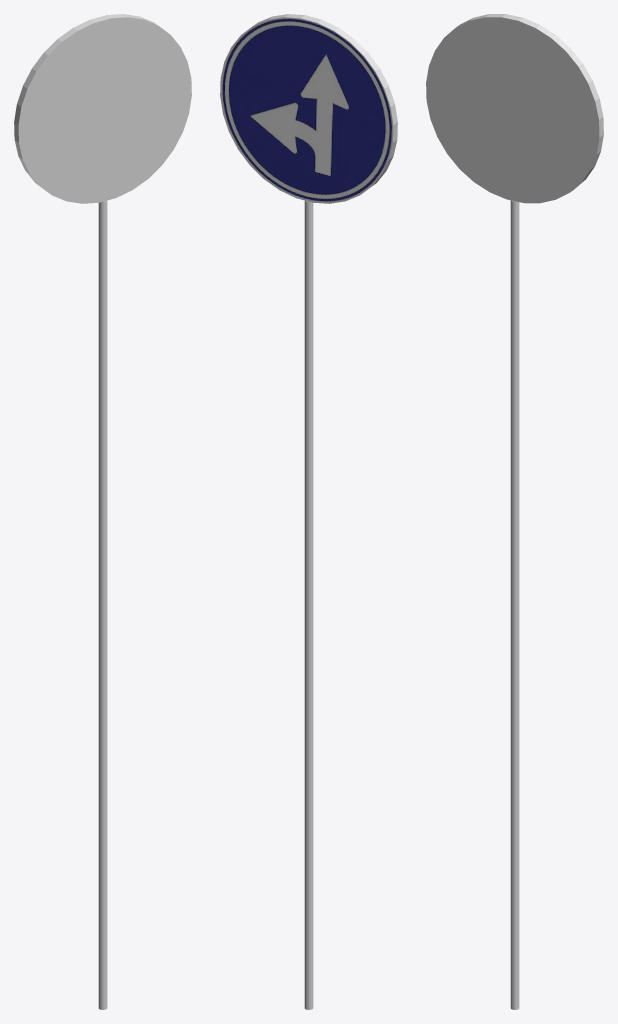
File: ilsol.dae
3 views of the same model, side by side, from view 1: azimuth 30°, elevation 25°; view 2: azimuth 150°, elevation 25°; view 3: azimuth 330°, elevation 25° (orthographic).
Parts seen in each view (by area): view 1: Cylinder_001, Cylinder; view 2: Cylinder_001, Cylinder; view 3: Cylinder_001, Cylinder.
Part boxes in pixels (left/top/right/bottom): Cylinder_001: left=14, top=14, right=191, bottom=203; Cylinder: left=98, top=200, right=107, bottom=1009; Cylinder_001: left=220, top=14, right=397, bottom=203; Cylinder: left=304, top=200, right=313, bottom=1009; Cylinder_001: left=426, top=14, right=603, bottom=203; Cylinder: left=510, top=200, right=519, bottom=1009.
Bounding box in the file's own units: 0.4489 × 0.02 × 2.45.
1 material, 1 textured.
